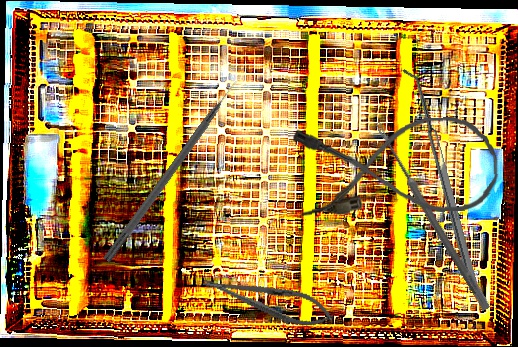Cannula: (292, 114, 501, 220)
Hook Surgical: (103, 78, 242, 265)
Needle Holder: (199, 265, 337, 334)
Spatula Surgical: (401, 65, 479, 294)
Surgical Spoon: (372, 120, 492, 312)
